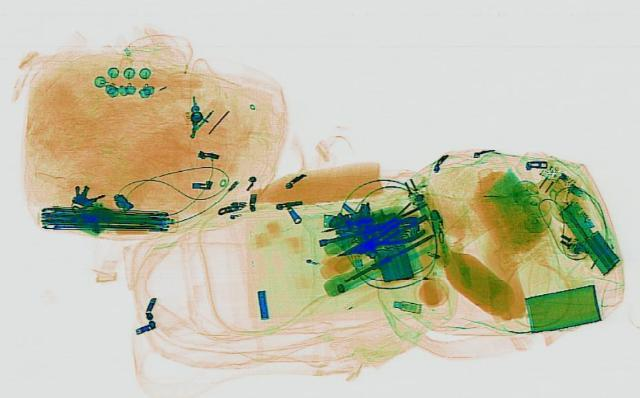Pliers: (325, 213, 433, 263)
